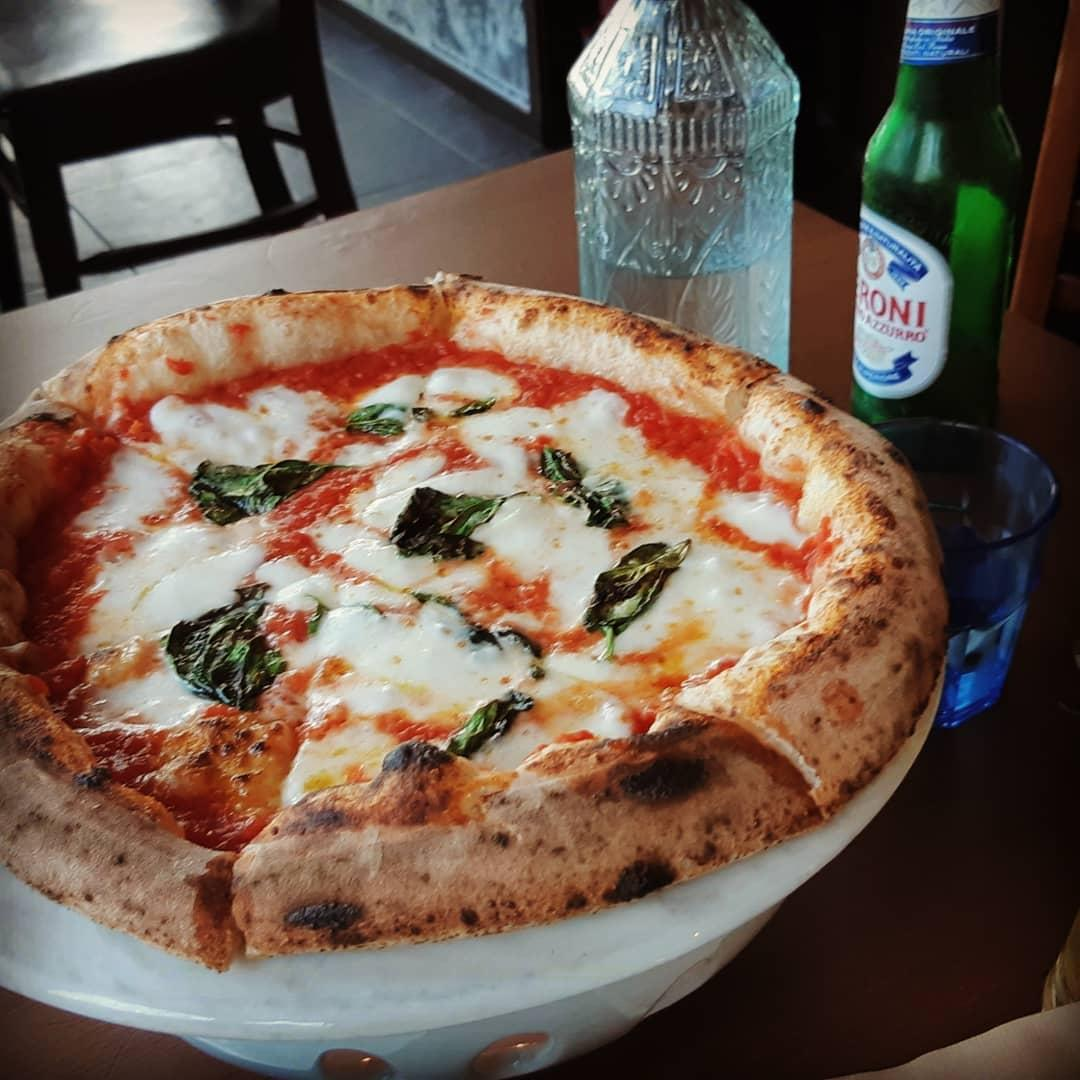Basil: (154, 588, 287, 712), (174, 448, 336, 525), (408, 594, 534, 667), (528, 438, 621, 534), (574, 541, 676, 627), (398, 484, 503, 563), (428, 701, 536, 760), (338, 394, 438, 438)
Cheese: (318, 618, 461, 749), (94, 521, 241, 627), (494, 501, 605, 598), (484, 408, 625, 474), (158, 394, 318, 449), (678, 554, 778, 641), (334, 468, 418, 569)
Pizza: (1, 281, 947, 951)
